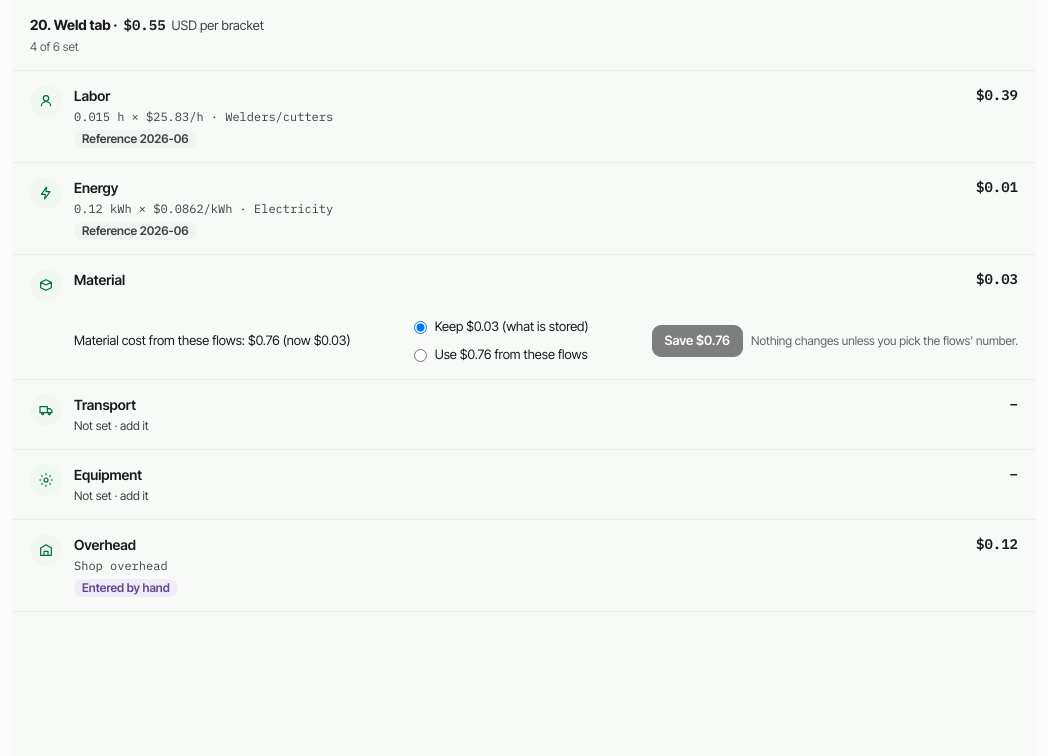
Test: Cost panel (E14) › the material sheet shows the flows line by line and names the one with no price
Click the button "Material $0.03": (46, 285) [12,255,1036,315]
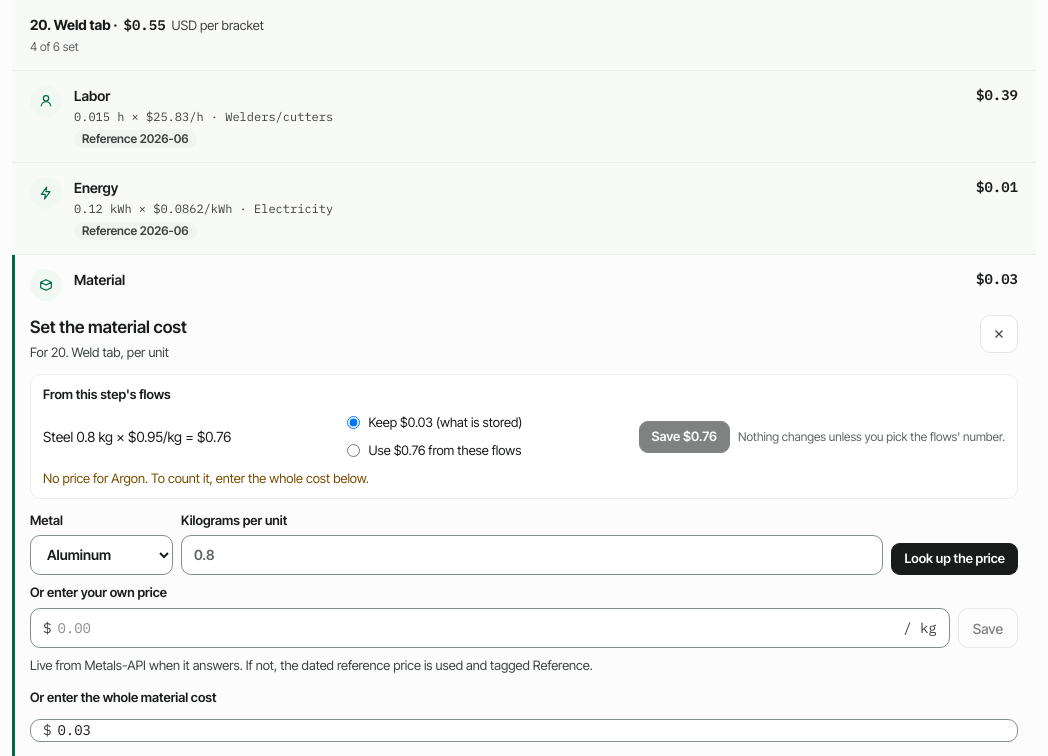
Result: the text "From this step's flows" is shown at [43,386,171,402]
Result: the text "Steel 0.8 kg × $0.95/kg = $0.76" is shown at [43,426,231,447]
Result: the text "No price for Argon. To count it, enter the whole cost below." is shown at [43,470,369,486]
